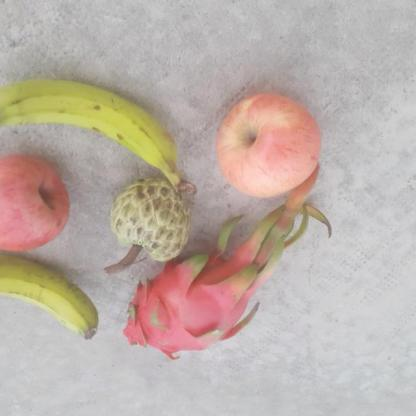annona: (101, 177, 194, 264)
apple: (213, 91, 323, 198), (0, 152, 72, 254)
banana: (0, 67, 191, 193), (0, 252, 100, 340)
pitaya: (120, 256, 268, 360)
